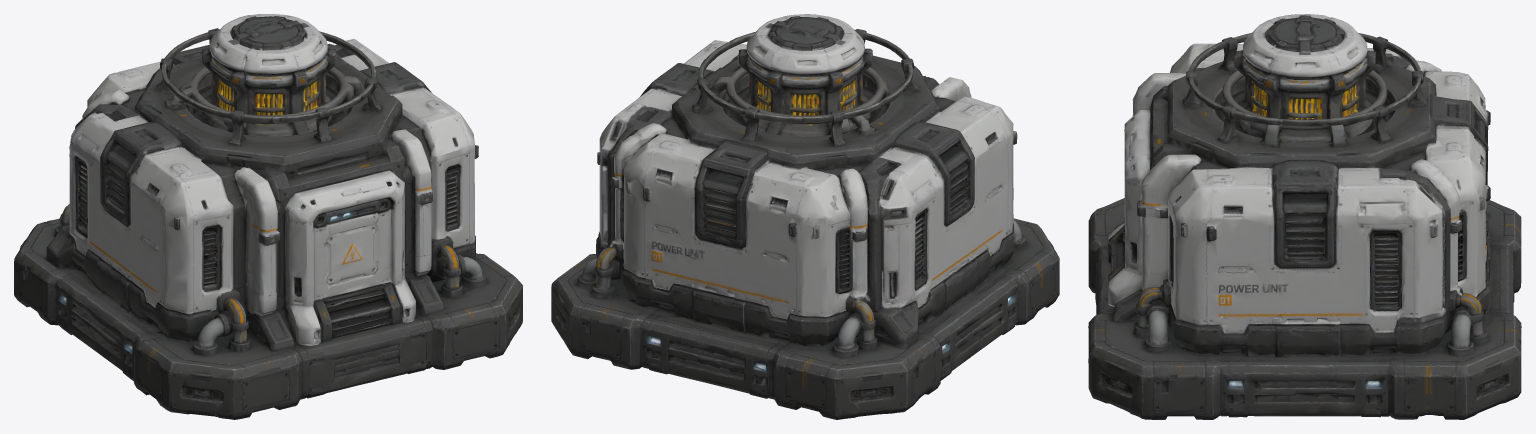
Rendered from tripo_convert_2a439a15-32d3-442d-bf0f-5386bcacad7c.fbx.
3 renders of one model, left to right at view 1: azimuth 30°, elevation 25°; view 2: azimuth 150°, elevation 25°; view 3: azimuth 270°, elevation 25°, orthographic. The views are drawn at different scales.
Visible parts, largest first — view 1: tripo_node_2a439a15; view 2: tripo_node_2a439a15; view 3: tripo_node_2a439a15.
Part boxes in pixels (x1,y1,x2,y2): tripo_node_2a439a15: (14, 14, 522, 419); tripo_node_2a439a15: (551, 14, 1059, 419); tripo_node_2a439a15: (1088, 14, 1521, 419).
Size of the model in its own units: 1 by 0.7722 by 0.9992.
Materials: 1 (1 with a texture image).
